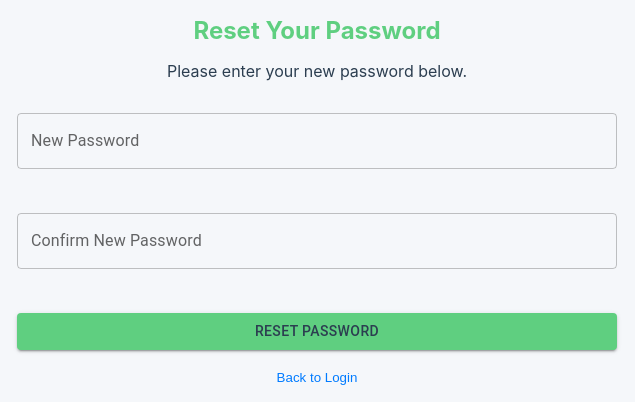
Test case: Admin Password Reset - Reset Password Page › should show loading state during password reset
Expected: the heading "Reset Your Password" is shown, [193,16,441,45]
Note: Open forgot password form
Type "newpassword123" into the password field labelled "New Password".
click(317, 141); type("newpassword123")  # box [17,113,617,169]
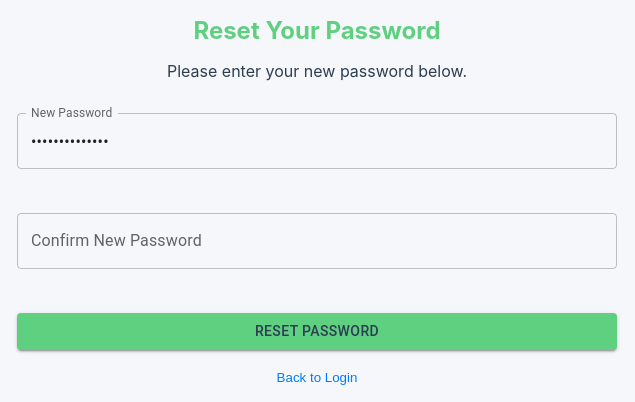
Type "newpassword123" into the password field labelled "Confirm New Password".
click(317, 241); type("newpassword123")  # box [17,213,617,269]
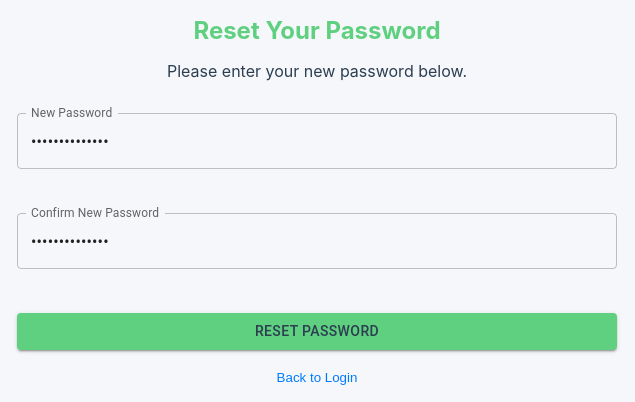
Click the button "Reset Password".
click(317, 331)  # box [17,313,617,350]
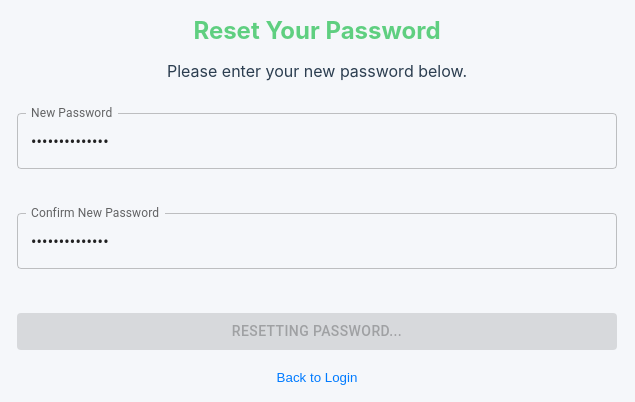
Now the button "Resetting Password..." is shown, box [17,313,617,350]
